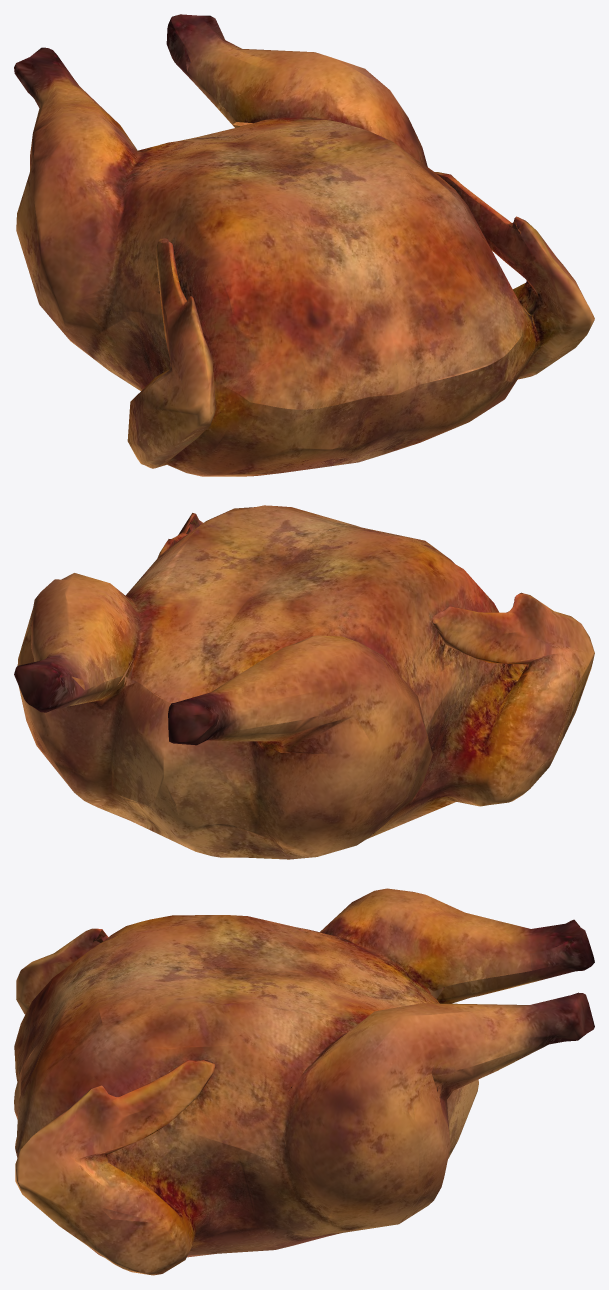
Rendered from roast.glb.
3 views of the same model, one above another, from view 1: azimuth 30°, elevation 25°; view 2: azimuth 150°, elevation 25°; view 3: azimuth 270°, elevation 25° (orthographic).
Parts seen in each view (by area): view 1: Group20576; view 2: Group20576; view 3: Group20576.
Part boxes in pixels (left/top/right/bottom): Group20576: left=14, top=14, right=594, bottom=476; Group20576: left=14, top=505, right=594, bottom=859; Group20576: left=14, top=888, right=594, bottom=1275.
Bounding box in the file's own units: 0.8269 × 0.5136 × 1.
Materials: 1 (1 with a texture image).
